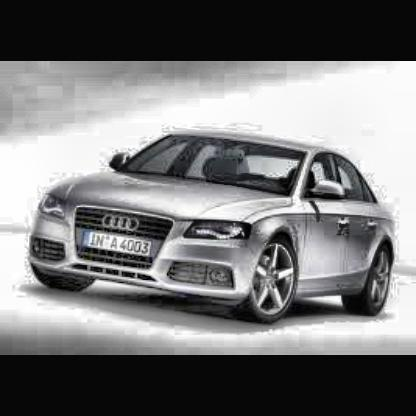Audi S4 Sedan 2012: (27, 129, 399, 331)
